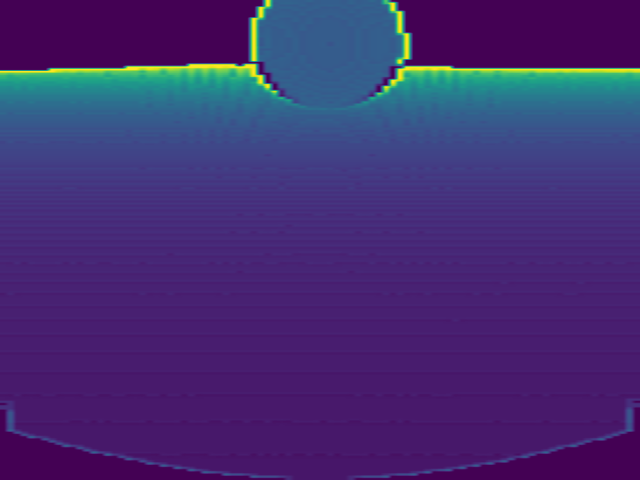sphere: (248, 1, 410, 111)
